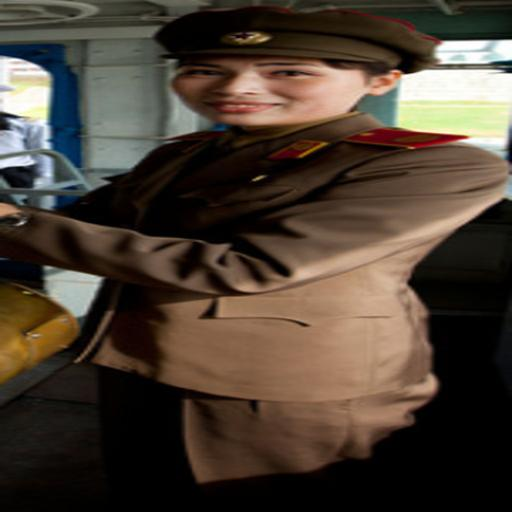north army: (46, 0, 501, 501)
